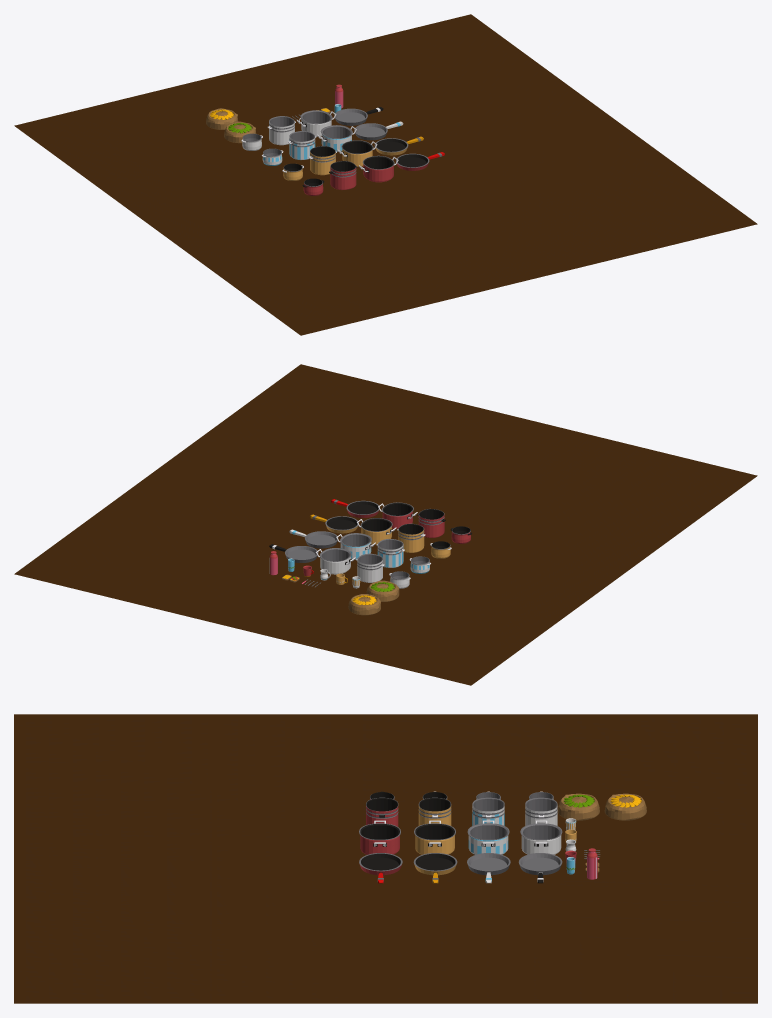
File: tableware.glb
3 renders of one model, top to bottom at view 1: azimuth 30°, elevation 25°; view 2: azimuth 150°, elevation 25°; view 3: azimuth 270°, elevation 25°, orthographic. The views are drawn at different scales.
Bounding box in the file's own units: 34.46 × 1.66 × 37.46.
1 material, 1 textured.
